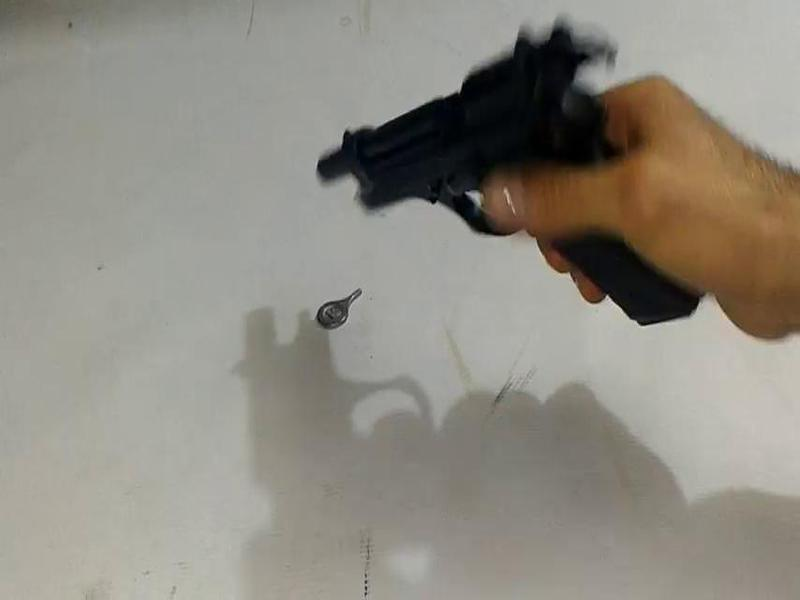Pistola: (270, 17, 731, 356)
